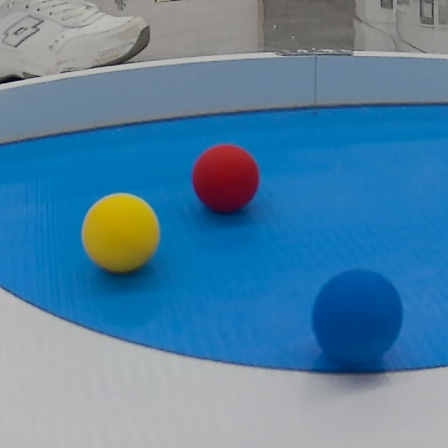blue: (300, 270, 413, 368)
blue_base: (2, 100, 448, 375)
red: (191, 139, 264, 222)
yellow: (79, 192, 161, 280)
